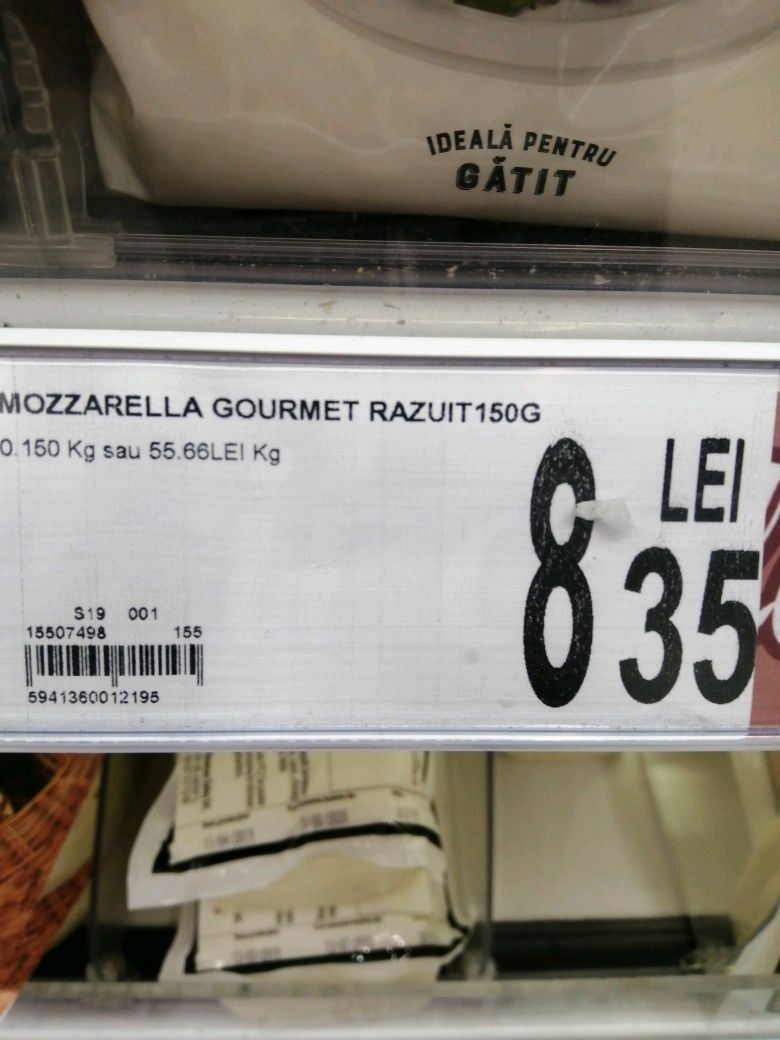price_bani: (610, 536, 767, 717)
price_lei: (511, 431, 601, 715)
price_tag: (1, 355, 772, 745)
product_id: (19, 689, 166, 711)
product_name: (1, 382, 548, 426)
